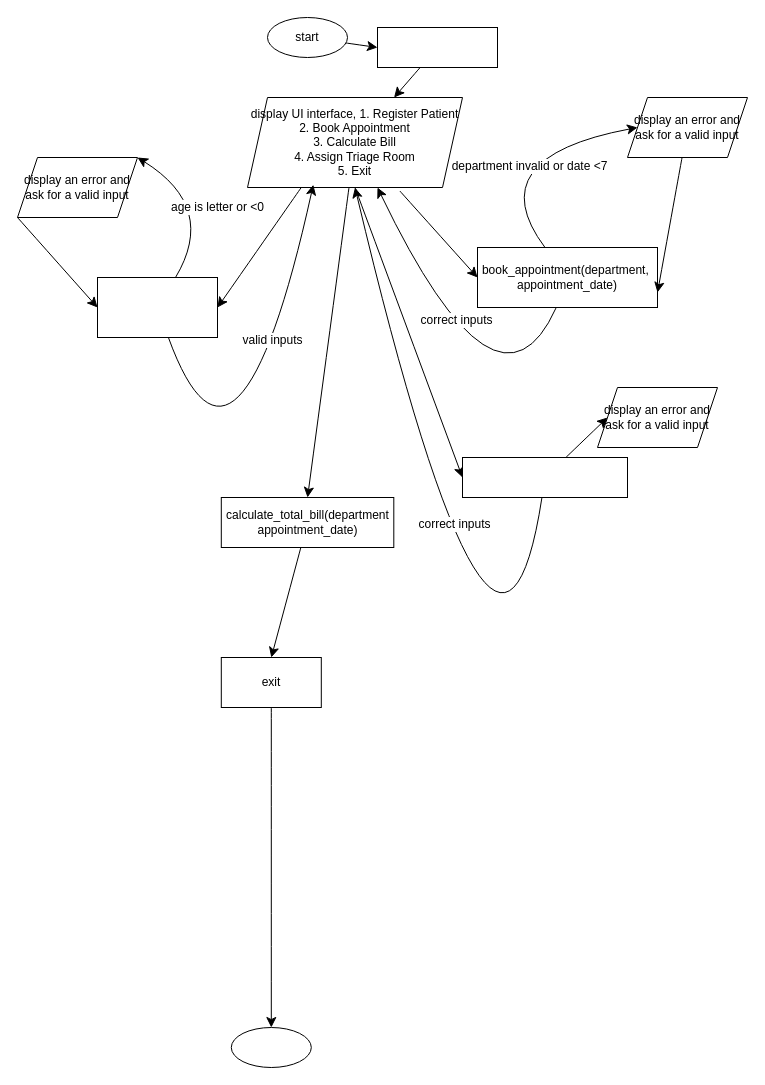
The diagram is 765 pixels wide and 1085 high, and some of its shapes have lost their labels. The centre of each missing label's shape, as x and y in pixels:
"assign_triage_room (severity)" belongs at [545,477].
"baseFee=100 simpleLabTest=10" belongs at [437,47].
"end" belongs at [270,1047].
"register_patient (name, age,patient_id)" belongs at [157,307].
